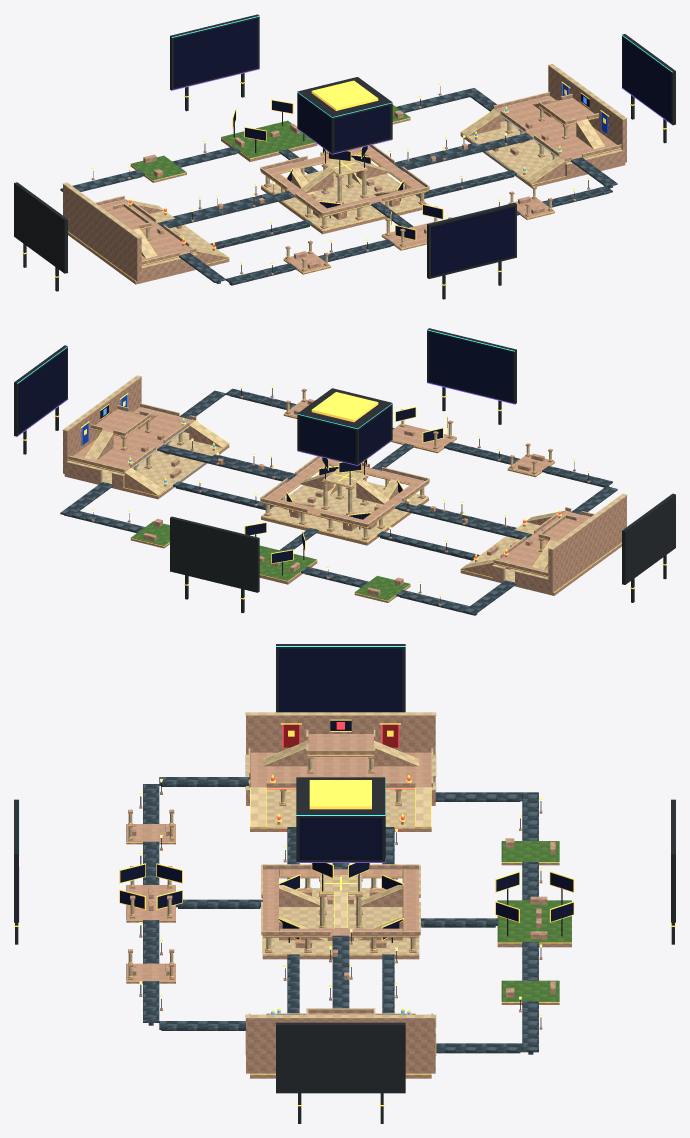
Rendered from skyreach_map_v3.glb.
The picture shows the model from 3 angles, top to bottom: view 1: azimuth 30°, elevation 25°; view 2: azimuth 150°, elevation 25°; view 3: azimuth 270°, elevation 25°; orthographic projection. The views are drawn at different scales.
Parts seen in each view (by area): view 1: skyreach_map; view 2: skyreach_map; view 3: skyreach_map.
Part boxes in pixels (box(x1,y1,x2,y2)): skyreach_map: box(14, 14, 675, 299); skyreach_map: box(14, 328, 675, 615); skyreach_map: box(14, 644, 675, 1123).
Size of the model in its own units: 218 by 37.67 by 160.
17 materials, 5 textured.
